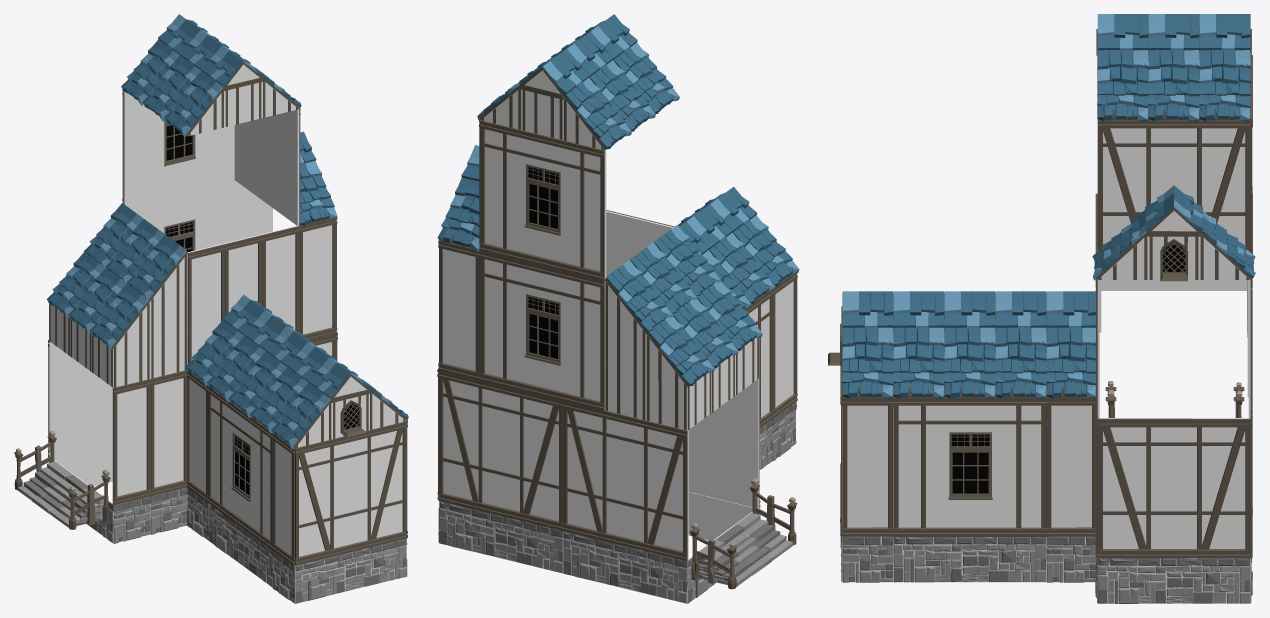
File: House_17_parts.glb
3 views of the same model, side by side, from view 1: azimuth 30°, elevation 25°; view 2: azimuth 150°, elevation 25°; view 3: azimuth 270°, elevation 25° (orthographic). The views are drawn at different scales.
Visible parts, largest first — view 1: WALL_02_2, WINDOW_03_5, WINDOW_03_2, WALL_02_6, WALL_02_5, WINDOW_03_4, WALL_03_8, STAIRS_03_2, WALL_03_7, FOUNDATION_02_24, WALL_03_10, WALL_03_13 (+48 smaller); view 2: WINDOW_03_5, WALL_02_5, WINDOW_03_4, WALL_02_4, STAIRS_03_2, FOUNDATION_02_28, WALL_03_14, FOUNDATION_02_27, WALL_03_8, WALL_03_4, ROOF_base_16, ROOF_base_18 (+37 smaller); view 3: WALL_02_3, WINDOW_03_3, WALL_02_6, WALL_03_5, FOUNDATION_02_25, FOUNDATION_02_26, WALL_03_6, ROOF_base_4, ROOF_base_5, ROOF_base_3, ROOF_base_6, ROOF_base_22 (+24 smaller).
Boxes of the visible parts, x1,y1,x2,y2 form: WALL_02_2: (295,421,407,565); WINDOW_03_5: (122,89,234,206); WINDOW_03_2: (207,385,272,549); WALL_02_6: (234,108,300,225); WALL_02_5: (48,340,112,457); WINDOW_03_4: (126,180,235,252); WALL_03_8: (112,379,151,505); STAIRS_03_2: (14,430,110,529); WALL_03_7: (151,370,187,495); FOUNDATION_02_24: (295,538,406,603); WALL_03_10: (299,218,337,340); WALL_03_13: (187,243,225,364); WINDOW_03_5: (479,120,606,280); WALL_02_5: (562,401,688,561); WINDOW_03_4: (479,251,604,410); WALL_02_4: (438,371,562,530); STAIRS_03_2: (689,478,797,589); FOUNDATION_02_28: (563,531,687,603); WALL_03_14: (438,240,480,380); FOUNDATION_02_27: (439,501,563,573); WALL_03_8: (717,377,760,508); WALL_03_4: (773,273,797,417); ROOF_base_16: (605,260,673,333); ROOF_base_18: (563,77,631,149); WALL_02_3: (1097,418,1250,558); WINDOW_03_3: (893,397,1046,536); WALL_02_6: (1097,119,1250,252); WALL_03_5: (842,397,893,536); FOUNDATION_02_25: (893,537,1046,582); FOUNDATION_02_26: (1097,558,1250,603); WALL_03_6: (1046,397,1095,536); ROOF_base_4: (944,326,995,399); ROOF_base_5: (893,326,944,399); ROOF_base_3: (995,327,1046,399); ROOF_base_6: (842,327,893,399); ROOF_base_22: (1148,49,1199,122).
Size of the model in its own units: 7.32 by 11.59 by 8.38.
1 material, 1 textured.
